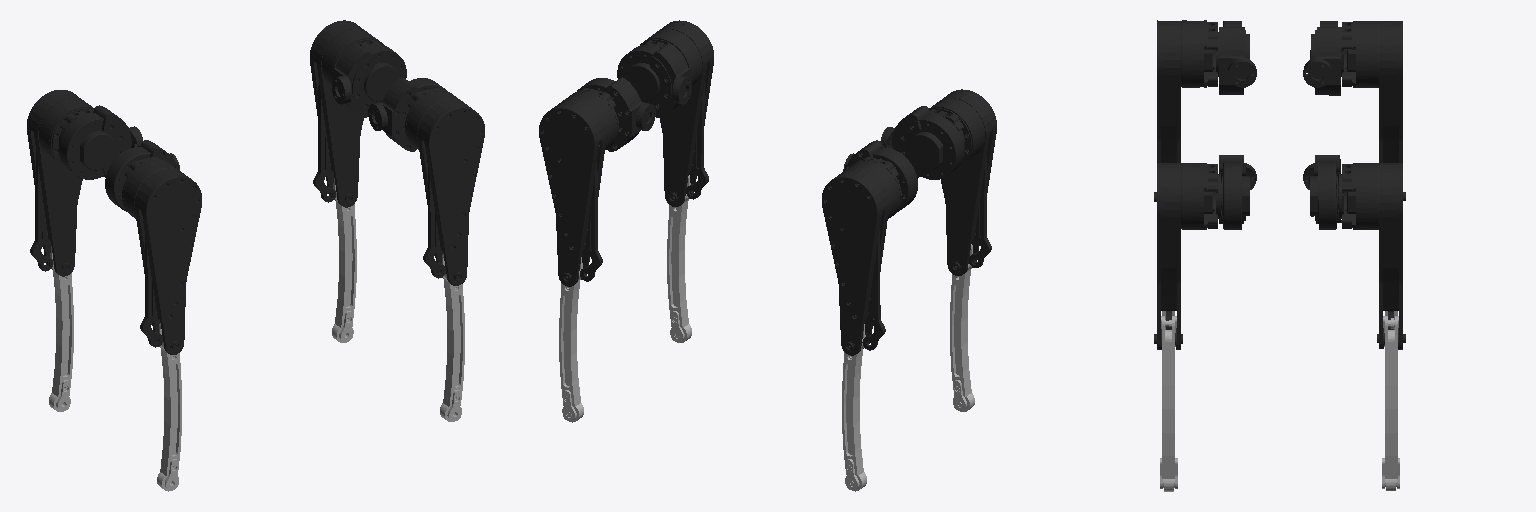
robot.urdf — canineV1:
<?xml version="1.0" encoding="utf-8"?>
<!-- This URDF was automatically created by SolidWorks to URDF Exporter! Originally created by [author] ([email redacted]) 
     Commit Version: 1.6.0-4-g7f85cfe  Build Version: 1.6.7995.38578
     For more information, please see http://wiki.ros.org/sw_urdf_exporter -->
<robot name="canineV1">
  <material name="black">
    <color rgba="0.0 0.0 0.0 1.0"/>
  </material>

  <material name="light_gray">
    <color rgba="0.75 0.75 0.75 1.0"/>
  </material>

  <material name="black1">
    <color rgba="0.2 0.2 0.2 1.0"/>
  </material>

  <material name="black2">
    <color rgba="0.7 0.7 0.7 1.0"/>
  </material>

  <material name="blue">
    <color rgba="0.0 0.0 0.8 1.0"/>
  </material>

  <!--
    Base
  -->

  <link name="base">
    <visual>
      <origin rpy="0 0 0" xyz="0 0 0"/>
      <geometry>
        <box size="0.001 0.001 0.001"/>
      </geometry>
    </visual>
  </link>

  <joint name="floating_base" type="fixed">
    <origin rpy="0 0 0" xyz="0 0 0"/>
    <parent link="base"/>
    <child link="trunk"/>
  </joint>
  <link name="trunk">
    <inertial>
      <origin xyz="0.0 0.0 0.0" rpy="0 0 0" />
      <mass value = "8.065"/>
      <inertia ixx = "0.0528587" ixy = "0" ixz = "0" iyx = "0" iyy = "0.0917824" iyz = "0" izx = "0" izy = "0" izz = "0.118295"/>
    </inertial>
    <visual>
      <origin xyz="0.146 0 0.0555" rpy="0 0 -1.57079632679" />
      <geometry>
        <mesh filename="package://canine/meshes/base.STL" />
      </geometry>
      <material name="blue"/>
    </visual>
    <collision>
      <origin xyz="0.3 0 -0.015" rpy="0 0.5236 0" />
      <geometry>
        <box size="0.035 0.05 0.09"/>
      </geometry>
    </collision>
    <collision>
      <origin xyz="0.22 0 0" rpy="0 0 0" />
      <geometry>
        <box size="0.15 0.04 0.111"/>
      </geometry>
    </collision>
    <collision>
      <origin xyz="0 0 0" rpy="0 0 0" />
      <geometry>
        <box size="0.292 0.245 0.111"/>
      </geometry>
    </collision>
  </link>

  <!--
    Left Front
  -->

  <joint name="FL_HIP" type="revolute">
    <origin xyz="0.175 0.055 0" rpy="0 0 0" />
    <parent link="trunk" />
    <child link="FL_hip" />
    <axis xyz="1 0 0" />
    <limit lower="0" upper="0" effort="0" velocity="0" />
  </joint>
  <link name="FL_hip">
    <inertial>
      <origin xyz="-0.0145 0 0" rpy="0 0 0" />
      <mass value="0.743" />
      <inertia ixx="0.000692909" ixy="0.0" ixz="0.0" iyy="0.00112379" iyz="0.0" izz="0.000692909" />
    </inertial>
    <visual>
      <origin xyz="0 0 0" rpy="-3.1416 0 0" />
      <geometry>
        <mesh filename="package://canine/meshes/L_U_hip.STL" />
      </geometry>
      <material name="black1"/>
    </visual>
    <collision>
      <origin xyz="-0.0145 0 0" rpy="0 1.57079632679 0" />
      <geometry>
        <cylinder length="0.029" radius="0.049"/>
      </geometry>
    </collision>
  </link>

  <joint name="FL_THIGH" type="revolute">
    <origin xyz="0.0705 0.030496 0" rpy="0 0 0" />
    <parent link="FL_hip" />
    <child link="FL_thigh" />
    <axis xyz="0 1 0" />
    <limit lower="0" upper="0" effort="0" velocity="0" />
  </joint>
  <link name="FL_thigh">
    <inertial>
      <origin xyz="0 0.032 0" rpy="0 0 0" />
      <mass value="1.229" />
      <inertia ixx="0.00956203" ixy="0.0" ixz="0.0" iyy="0.00937164" iyz="0.0" izz="0.00146876" />
    </inertial>
    <visual>
      <origin xyz="0 0 0" rpy="0 -0.67 0" />
      <geometry>
        <mesh filename="package://canine/meshes/L_U_thigh.STL" />
      </geometry>
      <material name="black1"/>
    </visual>
    <collision>
      <origin xyz="0 0.032 0" rpy="1.57079632679 0 0" />
      <geometry>
        <cylinder length="0.124996" radius="0.049"/>
      </geometry>
    </collision>
    <collision>
      <origin xyz="0 0.077 -0.115" rpy="0 0 0" />
      <geometry>
        <box size="0.035 0.035 0.23" />
      </geometry>
    </collision>
  </link>

  <joint name="FL_KNEE" type="revolute">
    <origin xyz="0 0.077 -0.23" rpy="0 0 0" />
    <parent link="FL_thigh" />
    <child link="FL_calf" />
    <axis xyz="0 1 0" />
    <limit lower="0" upper="0" effort="0" velocity="0" />
  </joint>
  <link name="FL_calf">
    <inertial>
      <origin xyz="0 0 -0.115" rpy="0 0 0" />
      <mass value="0.183" />
      <inertia
              ixx="0.00124765"
              ixy="0.0"
              ixz="0.0"
              iyy="0.00124765"
              iyz="0.0"
              izz="1.7934e-05" />
    </inertial>
    <visual>
      <origin xyz="0 -0.0135 0" rpy="0 0.755 0" />
      <geometry>
        <mesh filename="package://canine/meshes/L_U_calf.STL" />
      </geometry>
      <material name="black2"/>
    </visual>
    <collision>
      <origin xyz="0 0 -0.115" rpy="0 0 0" />
      <geometry>
        <box size="0.019 0.019 0.23" />
      </geometry>
    </collision>-
  </link>

  <joint name="FL_FOOT" type="fixed">
    <origin xyz="0 0 -0.23" rpy="0 0 0" />
    <parent link="FL_calf" />
    <child link="FL_foot" />
  </joint>
  <link name="FL_foot">
    <inertial>
      <origin xyz="0 0 0" rpy="0 0 0" />
      <mass value="0.024"/>
      <inertia ixx="3.6e-06" ixy="0" ixz="0" iyy="3.6e-06" iyz="0" izz="3.6e-06"/>
    </inertial>
    <collision>
      <origin xyz="0 0 0" rpy="1.57079632679 0 0" />
      <geometry>
        <cylinder length="0.019" radius="0.015"/>
      </geometry>
    </collision>
  </link>

  <!--
    Right Front
  -->

  <joint name="FR_HIP" type="revolute">
    <origin xyz="0.175 -0.055 0" rpy="0 0 0" />
    <parent link="trunk" />
    <child link="FR_hip" />
    <axis xyz="1 0 0" />
    <limit lower="0" upper="0" effort="0" velocity="0" />
  </joint>
  <link name="FR_hip">
    <inertial>
      <origin xyz="-0.0145 0 0" rpy="0 0 0" />
      <mass value="0.743" />
      <inertia ixx="0.000692909" ixy="0.0" ixz="0.0" iyy="0.00112379" iyz="0.0" izz="0.000692909" />
    </inertial>
    <visual>
      <origin xyz="0 0 0" rpy="-3.1254 0 0" />
      <geometry>
        <mesh filename="package://canine/meshes/R_U_hip.STL" />
      </geometry>
      <material name="black1"/>
    </visual>
    <collision>
      <origin xyz="-0.0145 0 0" rpy="0 1.57079632679 0" />
      <geometry>
        <cylinder length="0.029" radius="0.049"/>
      </geometry>
    </collision>
  </link>

  <joint name="FR_THIGH" type="revolute">
    <origin xyz="0.0705 -0.030496 0" rpy="0 0 0" />
    <parent link="FR_hip" />
    <child link="FR_thigh" />
    <axis xyz="0 1 0" />
    <limit lower="0" upper="0" effort="0" velocity="0" />
  </joint>
  <link name="FR_thigh">
    <inertial>
      <origin xyz="0 -0.077 -0.115" rpy="0 0 0" />
      <mass value="1.229" />
      <inertia ixx="0.00956203" ixy="0.0" ixz="0.0" iyy="0.00937164" iyz="0.0" izz="0.00146876" />
    </inertial>
    <visual>
      <origin xyz="0 0 0" rpy="0 -0.445 0" />
      <geometry>
        <mesh filename="package://canine/meshes/R_U_thigh.STL" />
      </geometry>
      <material name="black1"/>
    </visual>
    <collision>
      <origin xyz="0 -0.032 0." rpy="1.57079632679 0 0" />
      <geometry>
        <cylinder length="0.124996" radius="0.049"/>
      </geometry>
    </collision>
    <collision>
      <origin xyz="0 -0.077 -0.115" rpy="0 0 0" />
      <geometry>
        <box size="0.035 0.035 0.23" />
      </geometry>
    </collision>
  </link>

  <joint name="FR_KNEE" type="revolute">
    <origin xyz="0 -0.077 -0.23" rpy="0 0 0" />
    <parent link="FR_thigh" />
    <child link="FR_calf" />
    <axis xyz="0 1 0" />
    <limit lower="0" upper="0" effort="0" velocity="0" />
  </joint>
  <link name="FR_calf">
    <inertial>
      <origin xyz="0 0 -0.115" rpy="0 0 0" />
      <mass value="0.183" />
      <inertia
              ixx="0.00124765"
              ixy="0.0"
              ixz="0.0"
              iyy="0.00124765"
              iyz="0.0"
              izz="1.7934e-05" />
    </inertial>
    <visual>
      <origin xyz="0 0.0135 0" rpy="0 0.805 0" />
      <geometry>
        <mesh filename="package://canine/meshes/R_U_calf.STL" />
      </geometry>
      <material name="black2"/>
    </visual>
    <collision>
      <origin xyz="0 0 -0.115" rpy="0 0 0" />
      <geometry>
        <box size="0.019 0.019 0.23" />
      </geometry>
    </collision>-
  </link>

  <joint name="FR_FOOT" type="fixed">
    <origin xyz="0 0 -0.23" rpy="0 0 0" />
    <parent link="FR_calf" />
    <child link="FR_foot" />
  </joint>
  <link name="FR_foot">
    <inertial>
      <origin xyz="0 0 0" rpy="0 0 0" />
      <mass value="0.024"/>
      <inertia ixx="3.6e-06" ixy="0" ixz="0" iyy="3.6e-06" iyz="0" izz="3.6e-06"/>
    </inertial>
    <collision>
      <origin xyz="0 0 0" rpy="1.57079632679 0 0" />
      <geometry>
        <cylinder length="0.019" radius="0.015"/>
      </geometry>
    </collision>
  </link>

  <!--
  LEFT HIND
-->

  <joint name="HL_HIP" type="revolute">
    <origin xyz="-0.175 0.055 0" rpy="0 0 0" />
    <parent link="trunk" />
    <child link="HL_hip" />
    <axis xyz="1 0 0" />
    <limit lower="0" upper="0" effort="0" velocity="0" />
  </joint>
  <link name="HL_hip">
    <inertial>
      <origin xyz="0.0145 0 0" rpy="0 0 0" />
      <mass value="0.743" />
      <inertia ixx="0.000692909" ixy="0.0" ixz="0.0" iyy="0.00112379" iyz="0.0" izz="0.000692909" />
    </inertial>
    <visual>
      <origin xyz="0 0 0" rpy="0 0 3.1254" />
      <geometry>
        <mesh filename="package://canine/meshes/L_L_hip.STL" />
      </geometry>
      <material name="black1"/>
    </visual>
    <collision>
      <origin xyz="0.0145 0 0" rpy="0 1.57079632679 0" />
      <geometry>
        <cylinder length="0.029" radius="0.049"/>
      </geometry>
    </collision>
  </link>

  <joint name="HL_THIGH" type="revolute">
    <origin xyz="-0.0705 0.030496 0" rpy="0 0 0" />
    <parent link="HL_hip" />
    <child link="HL_thigh" />
    <axis xyz="0 1 0" />
    <limit lower="0" upper="0" effort="0" velocity="0" />
  </joint>
  <link name="HL_thigh">
    <inertial>
      <origin xyz="0 0.032 0" rpy="0 0 0" />
      <mass value="1.229" />
      <inertia ixx="0.00956203" ixy="0.0" ixz="0.0" iyy="0.00937164" iyz="0.0" izz="0.00146876" />
    </inertial>
    <visual>
      <origin xyz="0 0 0" rpy="0 -0.67 0" />
      <geometry>
        <mesh filename="package://canine/meshes/L_L_thigh.STL" />
      </geometry>
      <material name="black1"/>
    </visual>
    <collision>
      <origin xyz="0 0.032 0" rpy="1.57079632679 0 0" />
      <geometry>
        <cylinder length="0.124996" radius="0.049"/>
      </geometry>
    </collision>
    <collision>
      <origin xyz="0 0.077 -0.115" rpy="0 0 0" />
      <geometry>
        <box size="0.035 0.035 0.23" />
      </geometry>
    </collision>
  </link>

  <joint name="HL_KNEE" type="revolute">
    <origin xyz="0 0.077 -0.23" rpy="0 0 0" />
    <parent link="HL_thigh" />
    <child link="HL_calf" />
    <axis xyz="0 1 0" />
    <limit lower="0" upper="0" effort="0" velocity="0" />
  </joint>
  <link name="HL_calf">
    <inertial>
      <origin xyz="0 0 -0.115" rpy="0 0 0" />
      <mass value="0.183" />
      <inertia
              ixx="0.00124765"
              ixy="0.0"
              ixz="0.0"
              iyy="0.00124765"
              iyz="0.0"
              izz="1.7934e-05" />
    </inertial>
    <visual>
      <origin xyz="0 -0.0135 0" rpy="0 0.755 0" />
      <geometry>
        <mesh filename="package://canine/meshes/L_L_calf.STL" />
      </geometry>
      <material name="black2"/>
    </visual>
    <collision>
      <origin xyz="0 0 -0.115" rpy="0 0 0" />
      <geometry>
        <box size="0.019 0.019 0.23" />
      </geometry>
    </collision>
  </link>

  <joint name="HL_FOOT" type="fixed">
    <origin xyz="0 0 -0.23" rpy="0 0 0" />
    <parent link="HL_calf" />
    <child link="HL_foot" />
  </joint>
  <link name="HL_foot">
    <inertial>
      <origin xyz="0 0 0" rpy="0 0 0" />
      <mass value="0.024"/>
      <inertia ixx="3.6e-06" ixy="0" ixz="0" iyy="3.6e-06" iyz="0" izz="3.6e-06"/>
    </inertial>
    <collision>
      <origin xyz="0 0 0" rpy="1.57079632679 0 0" />
      <geometry>
        <cylinder length="0.019" radius="0.015"/>
      </geometry>
    </collision>
  </link>

  <!--
    Right HIND
  -->

  <joint name="HR_HIP" type="revolute">
    <origin xyz="-0.175 -0.055 0" rpy="0 0 0" />
    <parent link="trunk" />
    <child link="HR_hip" />
    <axis xyz="1 0 0" />
    <limit lower="0" upper="0" effort="0" velocity="0" />
  </joint>
  <link name="HR_hip">
    <inertial>
      <origin xyz="0.0145 0 0" rpy="0 0 0" />
      <mass value="0.743" />
      <inertia ixx="0.000692909" ixy="0.0" ixz="0.0" iyy="0.00112379" iyz="0.0" izz="0.000692909" />
    </inertial>
    <visual>
      <origin xyz="0 0 0" rpy="0.1 3.1416 0" />
      <geometry>
        <mesh filename="package://canine/meshes/R_L_hip.STL" />
      </geometry>
      <material name="black1"/>
    </visual>
    <collision>
      <origin xyz="0.0145 0 0" rpy="0 1.57079632679 0" />
      <geometry>
        <cylinder length="0.029" radius="0.049"/>
      </geometry>
    </collision>
  </link>

  <joint name="HR_THIGH" type="revolute">
    <origin xyz="-0.0705 -0.030496 0" rpy="0 0 0" />
    <parent link="HR_hip" />
    <child link="HR_thigh" />
    <axis xyz="0 1 0" />
    <limit lower="0" upper="0" effort="0" velocity="0" />
  </joint>
  <link name="HR_thigh">
    <inertial>
      <origin xyz="0 -0.032 0" rpy="0 0 0" />
      <mass value="1.229" />
      <inertia ixx="0.00956203" ixy="0.0" ixz="0.0" iyy="0.00937164" iyz="0.0" izz="0.00146876" />
    </inertial>
    <visual>
      <origin xyz="0 0 0" rpy="0 -0.445 0" />
      <geometry>
        <mesh filename="package://canine/meshes/R_L_thigh.STL" />
      </geometry>
      <material name="black1"/>
    </visual>
    <collision>
      <origin xyz="0 -0.032 0" rpy="1.57079632679 0 0" />
      <geometry>
        <cylinder length="0.124996" radius="0.049"/>
      </geometry>
    </collision>
    <collision>
      <origin xyz="0 -0.077 -0.115" rpy="0 0 0" />
      <geometry>
        <box size="0.035 0.035 0.23" />
      </geometry>
    </collision>
  </link>

  <joint name="HR_KNEE" type="revolute">
    <origin xyz="0 -0.077 -0.23" rpy="0 0 0" />
    <parent link="HR_thigh" />
    <child link="HR_calf" />
    <axis xyz="0 1 0" />
    <limit lower="0" upper="0" effort="0" velocity="0" />
  </joint>
  <link name="HR_calf">
    <inertial>
      <origin xyz="0 0 -0.115" rpy="0 0.0 0" />
      <mass value="0.183" />
      <inertia
              ixx="0.00124765"
              ixy="0.0"
              ixz="0.0"
              iyy="0.00124765"
              iyz="0.0"
              izz="1.7934e-05" />
    </inertial>
    <visual>
      <origin xyz="0 0.0135 0" rpy="0 0.805 0" />
      <geometry>
        <mesh filename="package://canine/meshes/R_L_calf.STL" />
      </geometry>
      <material name="black2"/>
    </visual>
    <collision>
      <origin xyz="0 0 -0.115" rpy="0 0 0" />
      <geometry>
        <box size="0.019 0.019 0.23" />
      </geometry>
    </collision>
  </link>

  <joint name="HR_FOOT" type="fixed">
    <origin xyz="0 0 -0.23" rpy="0 0 0" />
    <parent link="HR_calf" />
    <child link="HR_foot" />
  </joint>
  <link name="HR_foot">
    <inertial>
      <origin xyz="0 0 0" rpy="0 0 0" />
      <mass value="0.024"/>
      <inertia ixx="3.6e-06" ixy="0" ixz="0" iyy="3.6e-06" iyz="0" izz="3.6e-06"/>
    </inertial>
    <collision>
      <origin xyz="0 0 0" rpy="1.57079632679 0 0" />
      <geometry>
        <cylinder length="0.019" radius="0.015"/>
      </geometry>
    </collision>
  </link>

</robot>

--- Render facts (derived) ---
The picture shows the robot from 3 angles, left to right: view 1: azimuth 30°, elevation 25°; view 2: azimuth 150°, elevation 25°; view 3: azimuth 270°, elevation 25°; orthographic projection.
Model canineV1 with 18 links and 17 joints (12 revolute, 5 fixed), rooted at base, posed all joints at 0.
Links seen in each view (by area): view 1: HR_thigh, FR_thigh, HL_thigh, FL_thigh, HL_hip, FL_hip, HR_calf, FR_calf, HL_calf, FL_calf, FR_hip, HR_hip; view 2: FL_thigh, HL_thigh, HR_thigh, FR_thigh, HR_hip, FR_hip, HR_calf, FR_calf, HL_calf, FL_calf, FL_hip, HL_hip; view 3: FR_thigh, FL_thigh, HR_thigh, HL_thigh, FL_calf, FR_calf, HL_hip, HR_hip, FR_hip, FL_hip.
Boxes of the visible links, left/top/right/bottom form: HR_thigh: left=120, top=157, right=201, bottom=354; FR_thigh: left=403, top=88, right=484, bottom=285; HL_thigh: left=27, top=90, right=93, bottom=276; FL_thigh: left=310, top=20, right=383, bottom=207; HL_hip: left=59, top=105, right=142, bottom=179; FL_hip: left=332, top=43, right=406, bottom=117; HR_calf: left=157, top=323, right=181, bottom=491; FR_calf: left=440, top=254, right=464, bottom=421; HL_calf: left=49, top=246, right=73, bottom=411; FL_calf: left=332, top=178, right=356, bottom=342; FR_hip: left=368, top=77, right=446, bottom=151; HR_hip: left=105, top=140, right=179, bottom=211; FL_thigh: left=539, top=88, right=618, bottom=286; HL_thigh: left=822, top=157, right=901, bottom=355; HR_thigh: left=929, top=89, right=996, bottom=275; FR_thigh: left=640, top=20, right=713, bottom=206; HR_hip: left=880, top=106, right=964, bottom=179; FR_hip: left=617, top=43, right=691, bottom=117; HR_calf: left=950, top=244, right=974, bottom=411; FR_calf: left=667, top=175, right=691, bottom=342; HL_calf: left=842, top=324, right=866, bottom=491; FL_calf: left=559, top=257, right=583, bottom=422; FL_hip: left=577, top=77, right=655, bottom=151; HL_hip: left=843, top=140, right=917, bottom=211; FR_thigh: left=1154, top=163, right=1220, bottom=349; FL_thigh: left=1339, top=163, right=1405, bottom=349; HR_thigh: left=1154, top=20, right=1218, bottom=201; HL_thigh: left=1341, top=21, right=1405, bottom=200; FL_calf: left=1382, top=316, right=1399, bottom=490; FR_calf: left=1160, top=316, right=1177, bottom=491; HL_hip: left=1303, top=21, right=1341, bottom=95; HR_hip: left=1219, top=21, right=1256, bottom=94; FR_hip: left=1219, top=155, right=1256, bottom=229; FL_hip: left=1303, top=155, right=1341, bottom=229.
Size in the robot's own frame: 0.5904 by 0.368 by 0.5297 metres.
12 mesh visuals loaded from 13 distinct referenced files (12 binary STL); not drawn: 1 (reference not matched to a file when rendering).
